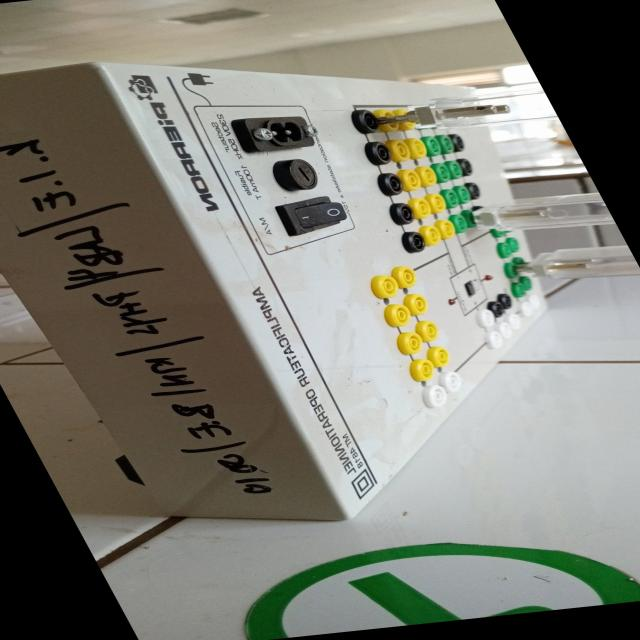Operational Amplifier Board: (0, 8, 640, 556)
